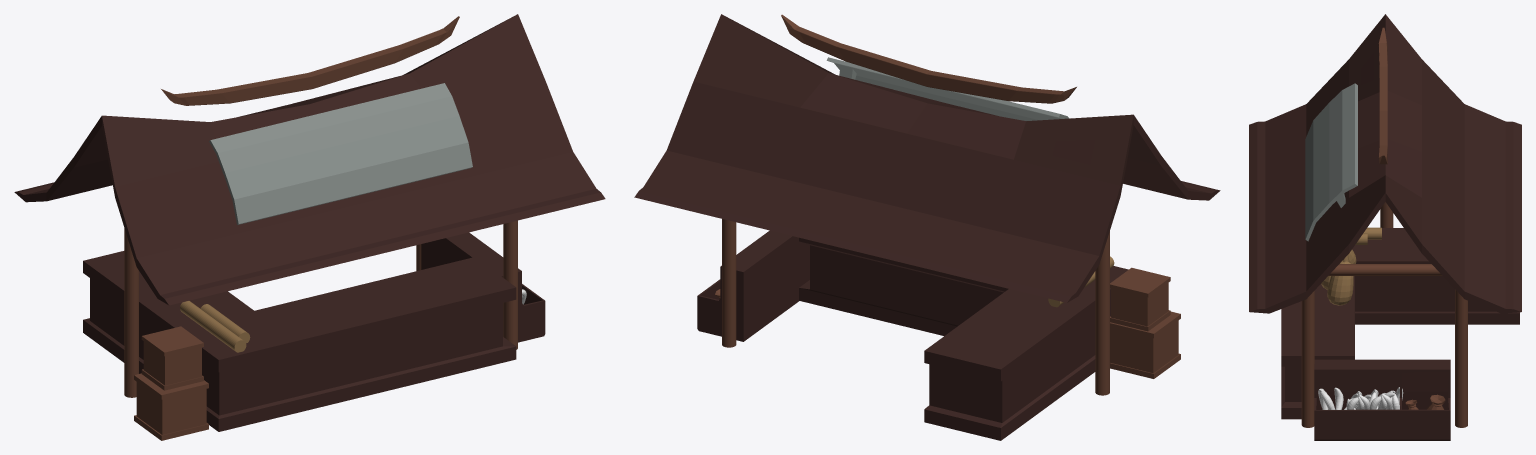
The model's file is monkey_market.fbx.
The picture shows the model from 3 angles, left to right: view 1: azimuth 30°, elevation 25°; view 2: azimuth 150°, elevation 25°; view 3: azimuth 270°, elevation 25°; orthographic projection. The views are drawn at different scales.
Visible parts, largest first — view 1: new roof, counter, sign, roof stand, box1, storage, box2, pole3, pole2, rolls; view 2: new roof, counter, storage, roof stand, box1, sign, box2, pole3, pole2; view 3: new roof, counter, storage, sign, pole2, BANANA, side pole, roof stand, bags, vase, rolls, pole3.
Part boxes in pixels (x1,y1,x2,y2): new roof: [14, 14, 605, 305]; counter: [83, 251, 516, 431]; sign: [209, 83, 472, 224]; roof stand: [161, 16, 459, 105]; box1: [134, 373, 208, 440]; storage: [421, 232, 545, 342]; box2: [141, 326, 203, 390]; pole3: [124, 228, 138, 397]; pole2: [416, 220, 517, 349]; rolls: [180, 301, 250, 352]; new roof: [634, 14, 1220, 302]; counter: [799, 237, 1128, 440]; storage: [697, 230, 809, 341]; roof stand: [781, 14, 1076, 103]; box1: [1110, 311, 1180, 378]; sign: [826, 57, 1069, 120]; box2: [1110, 267, 1170, 331]; pole3: [1095, 231, 1109, 395]; pole2: [722, 219, 736, 347]; new roof: [1249, 14, 1521, 313]; counter: [1281, 228, 1519, 419]; storage: [1314, 359, 1450, 440]; sign: [1305, 83, 1357, 241]; pole2: [1301, 289, 1467, 427]; BANANA: [1318, 387, 1403, 409]; side pole: [1328, 264, 1442, 275]; roof stand: [1378, 27, 1387, 164]; bags: [1321, 249, 1356, 305]; vase: [1405, 394, 1445, 409]; rolls: [1355, 227, 1381, 244]; pole3: [1380, 202, 1393, 227].
Size of the model in its own units: 552 by 365 by 340.
